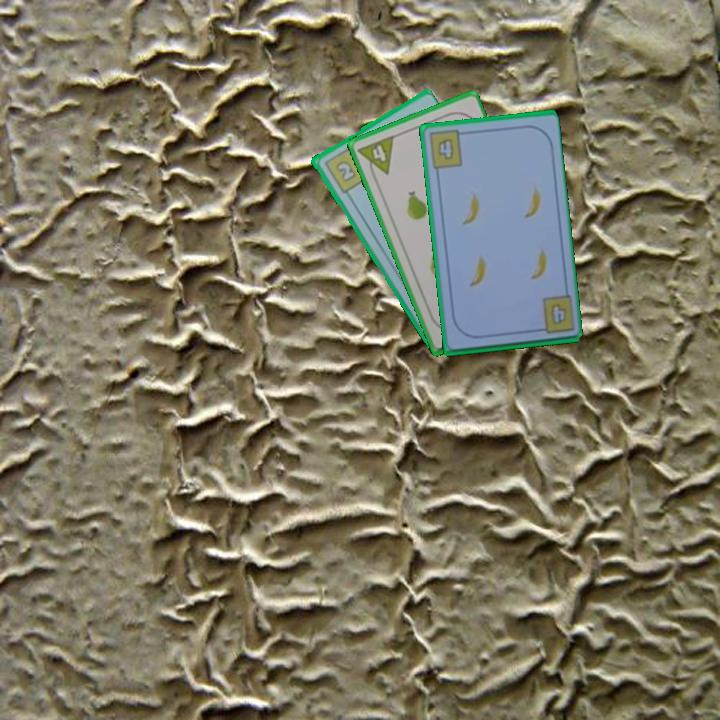2b: (320, 143, 370, 196)
4b: (425, 127, 469, 171), (547, 299, 569, 327)
4p: (354, 132, 397, 182)
